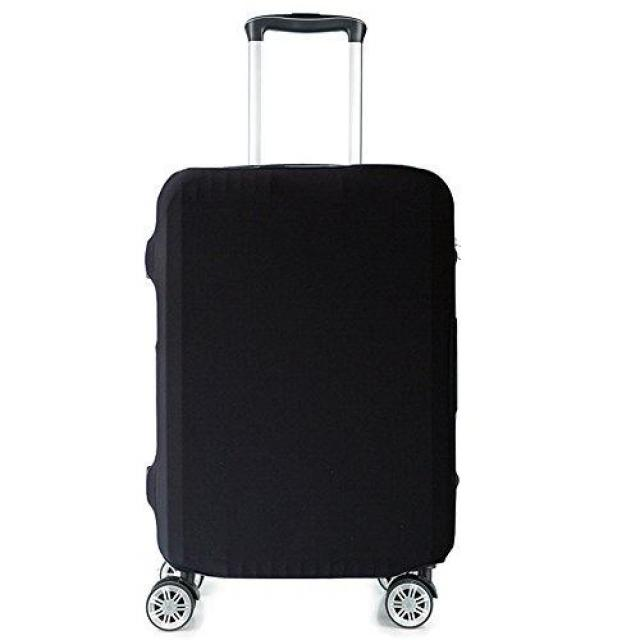luggage: (137, 159, 471, 581)
